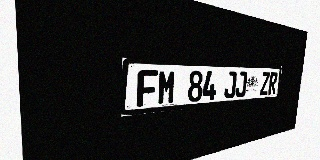4: (202, 71, 217, 101)
8: (187, 71, 204, 102)
F: (137, 70, 158, 107)
J: (224, 71, 237, 99), (235, 71, 247, 98)
M: (157, 70, 176, 105)
R: (268, 72, 278, 95)
Z: (260, 72, 270, 95)
